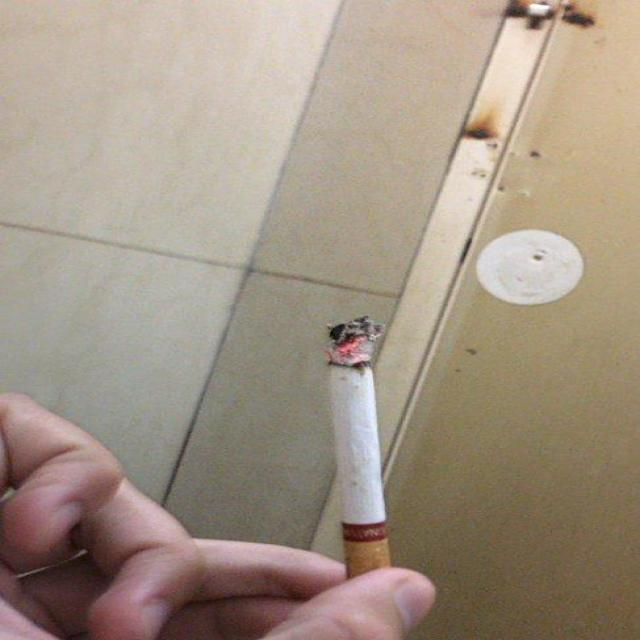Cigarette: (310, 300, 393, 571)
